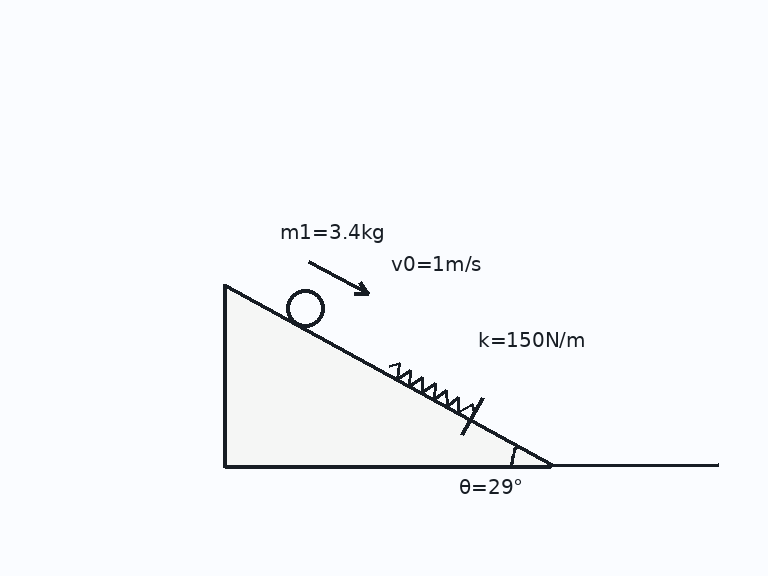ball: (284, 287, 326, 329)
ramp: (223, 283, 553, 468)
spring: (387, 361, 476, 415)
